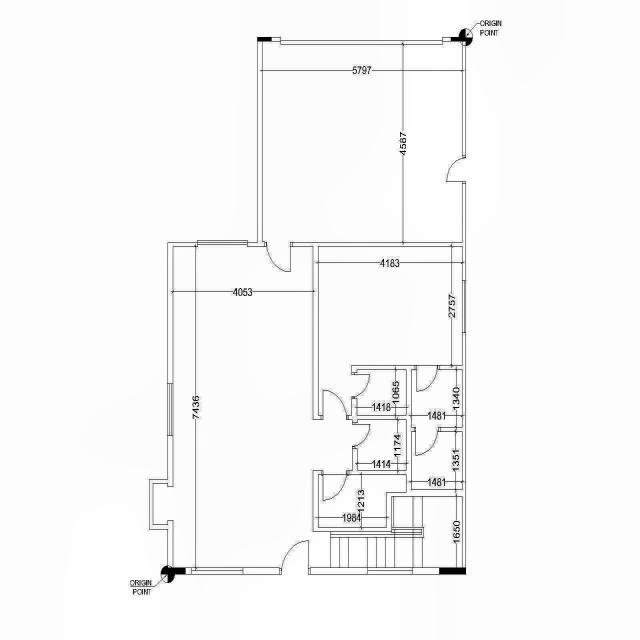Column: (439, 567, 466, 575), (168, 567, 186, 575), (257, 36, 272, 42), (451, 37, 466, 42)
Door: (280, 540, 310, 574), (320, 470, 350, 501), (264, 242, 292, 272), (321, 390, 349, 420), (414, 427, 441, 455), (414, 365, 440, 392), (446, 156, 466, 184), (352, 422, 370, 449), (352, 372, 369, 400)
Staircase: (330, 496, 462, 568)
Window: (166, 383, 174, 436), (190, 567, 243, 575), (197, 240, 248, 247), (368, 568, 412, 574), (462, 280, 466, 333)
